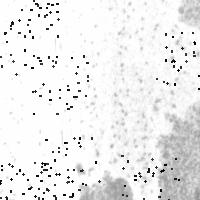pitted_surface: (76, 1, 153, 173), (155, 104, 200, 198), (38, 137, 98, 197), (31, 55, 87, 113), (121, 155, 178, 200), (156, 32, 200, 88), (10, 0, 65, 36), (121, 167, 177, 200), (0, 162, 47, 200), (0, 19, 29, 73), (77, 176, 138, 200), (168, 1, 200, 30)
